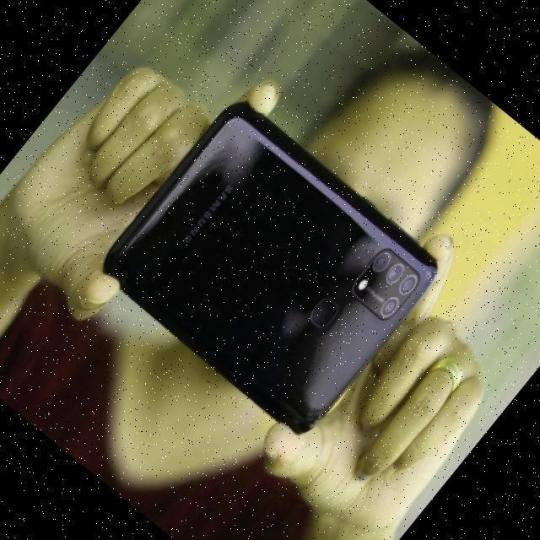phone: (103, 100, 440, 433)
